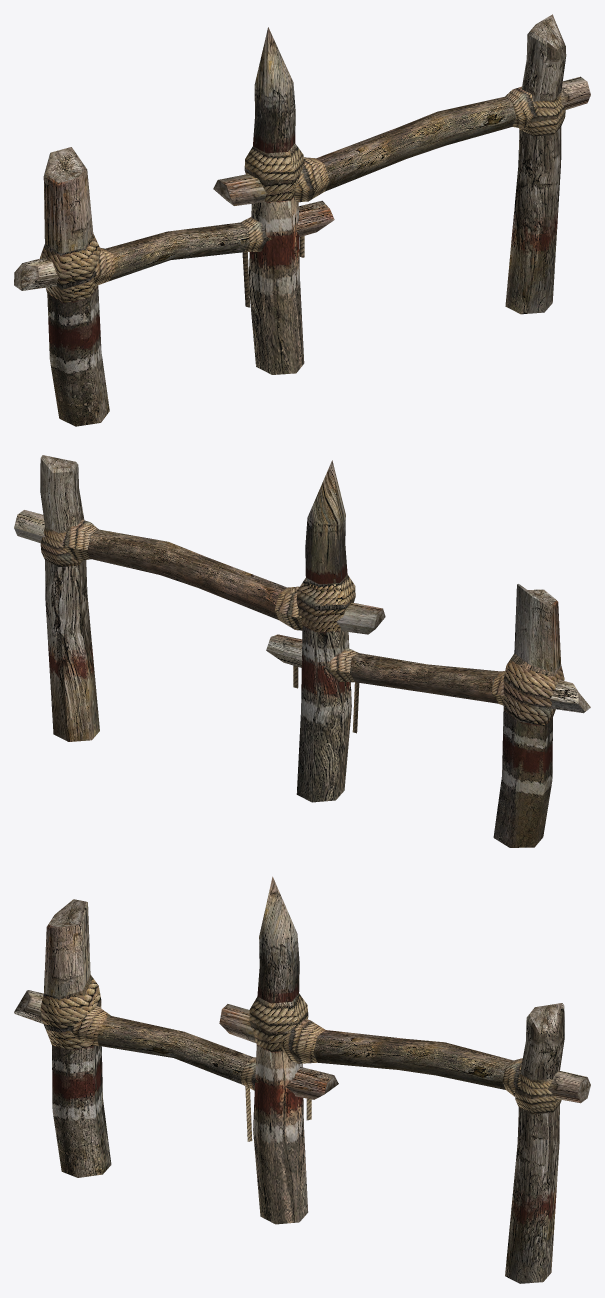
Rendered from Fence01.FBX.
3 renders of one model, top to bottom at view 1: azimuth 30°, elevation 25°; view 2: azimuth 150°, elevation 25°; view 3: azimuth 330°, elevation 25°, orthographic.
Parts seen in each view (by area): view 1: LV_TurtleLake_LakeTower_Fence01_SM_KSR; view 2: LV_TurtleLake_LakeTower_Fence01_SM_KSR; view 3: LV_TurtleLake_LakeTower_Fence01_SM_KSR.
Boxes of the visible parts, box(x1,y1,x2,y2) form: LV_TurtleLake_LakeTower_Fence01_SM_KSR: box(14, 14, 590, 426); LV_TurtleLake_LakeTower_Fence01_SM_KSR: box(14, 455, 590, 847); LV_TurtleLake_LakeTower_Fence01_SM_KSR: box(14, 876, 590, 1283).
Size of the model in its own units: 64.14 by 36.7 by 6.69.
